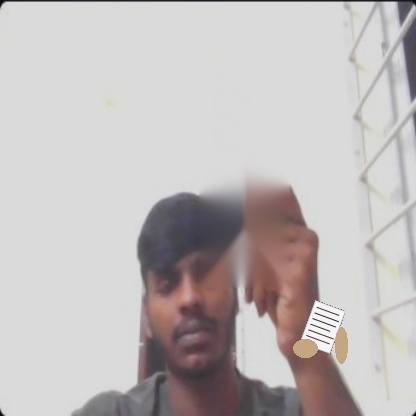cheat_chit: (299, 300, 345, 354)
